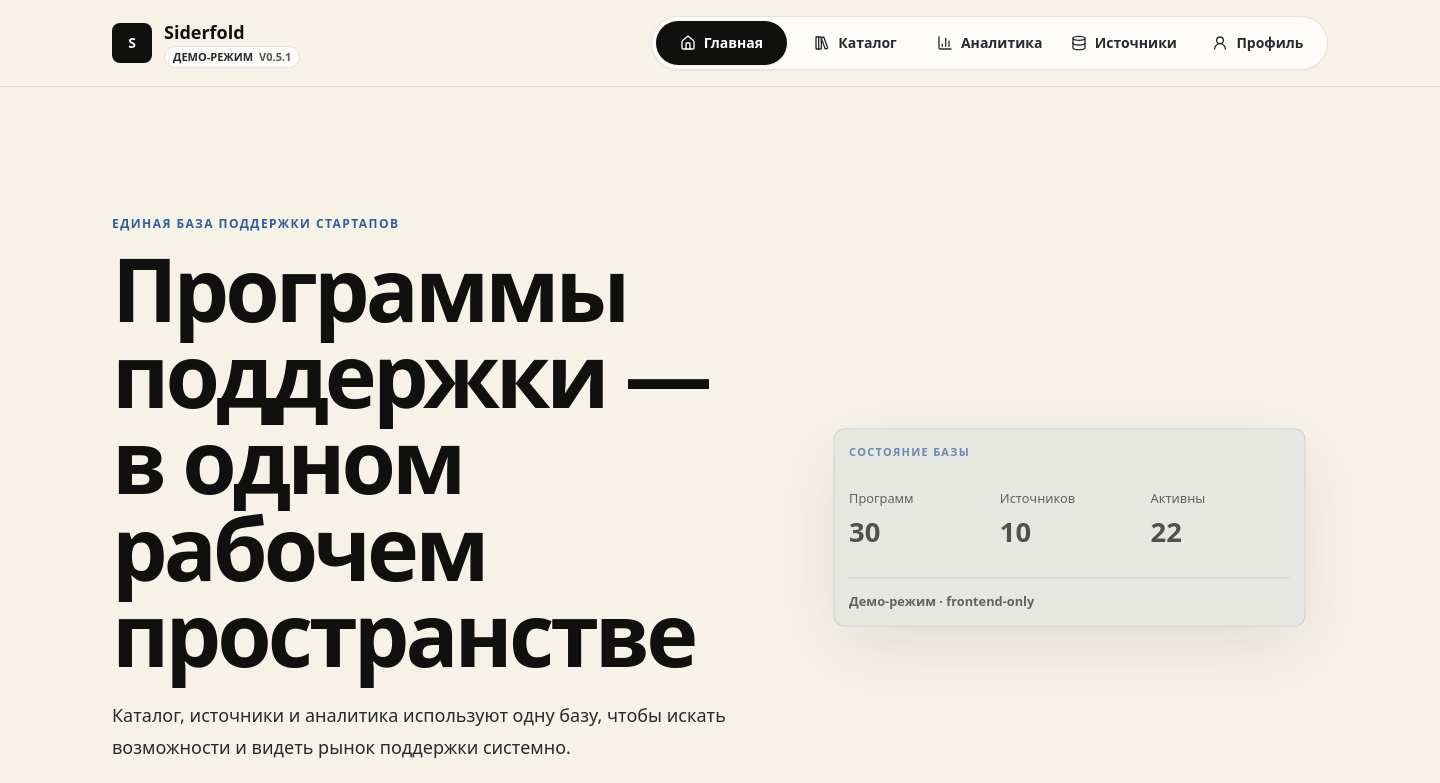
Scenario: App navigation › switches every new shell section without reload
The image size is (1440, 783).
Click the tab "Аналитика" at (990, 43), box [925,21,1055,65]
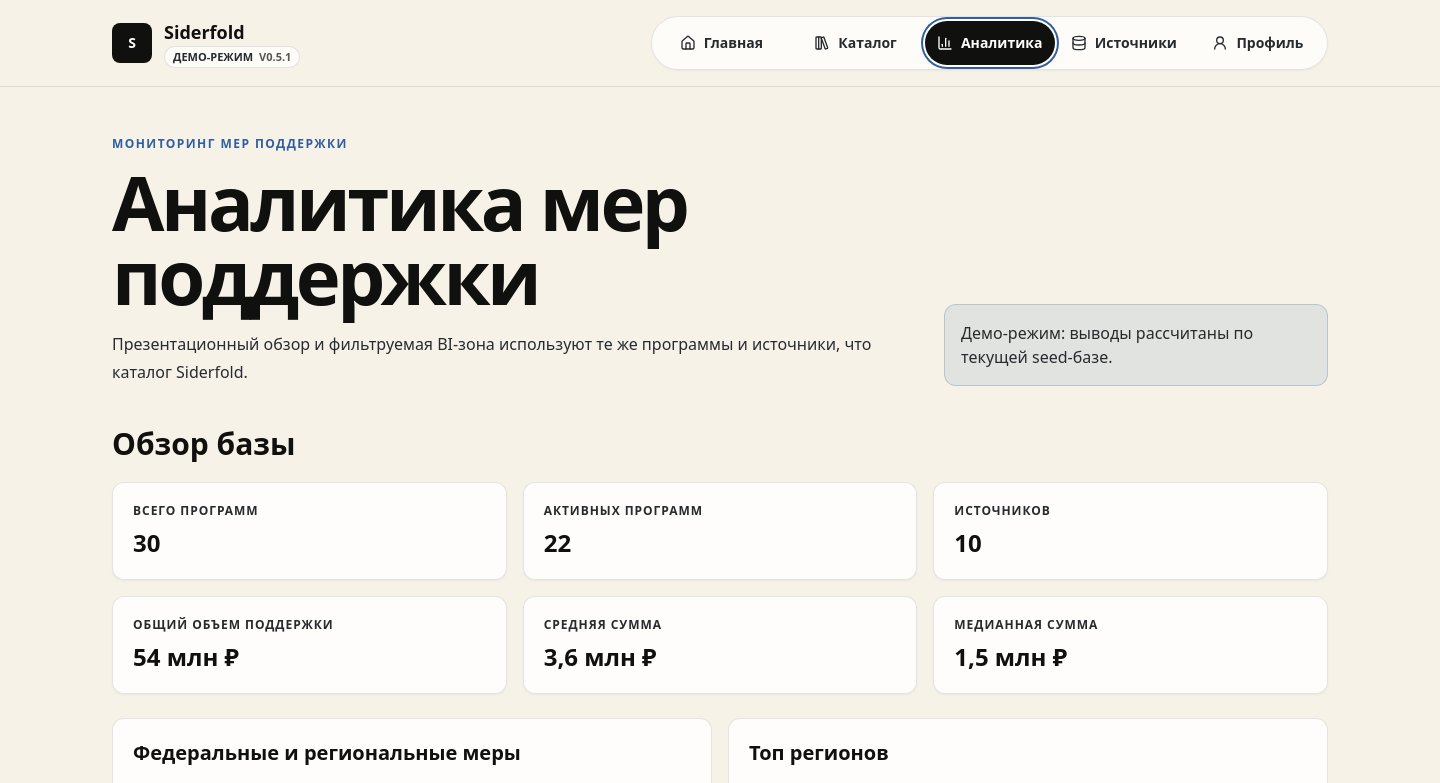
Expected: the heading "Аналитика мер поддержки" is shown, [112,150,687,328]
Click the tab "Профиль" at (1258, 43), box [1193,21,1323,65]
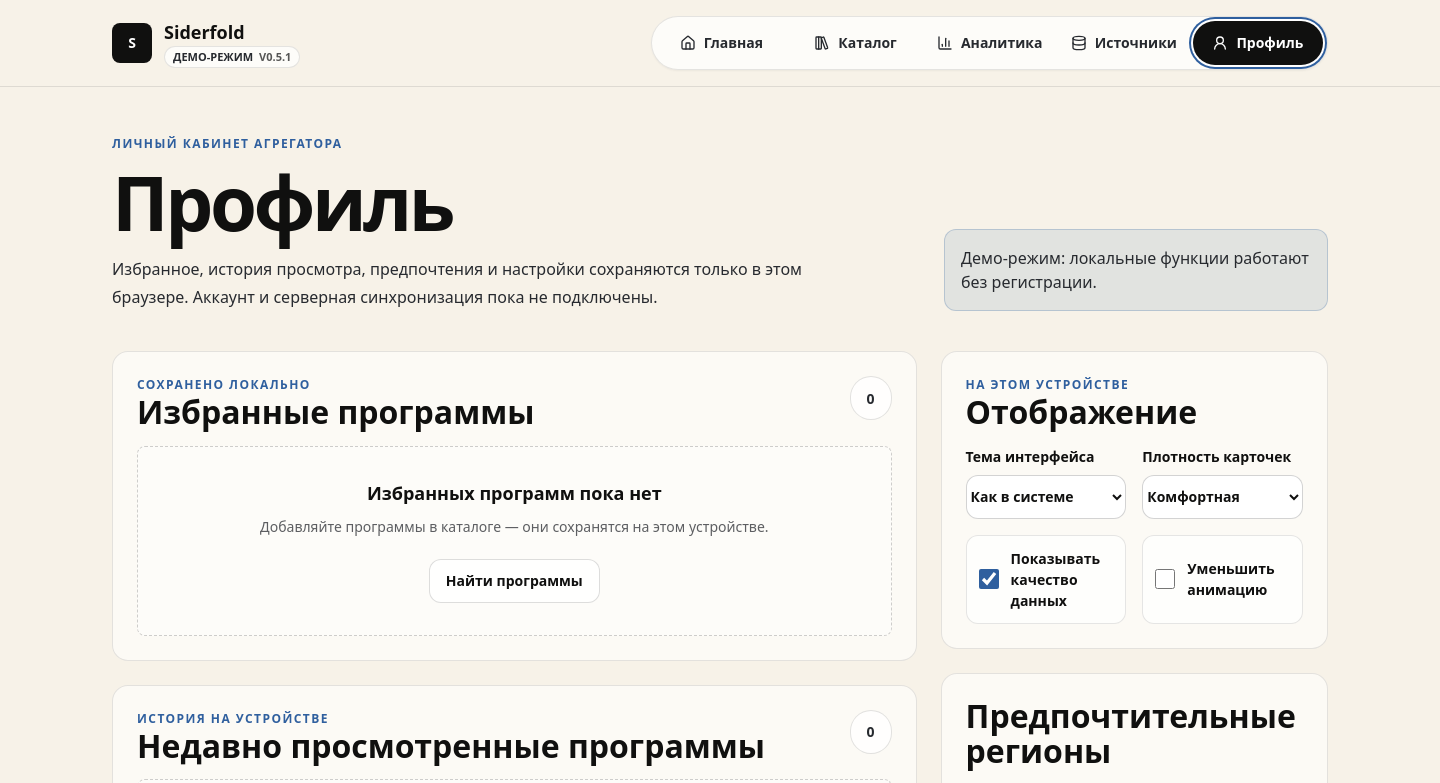
Expected: the heading "Профиль" is shown, [112,150,452,253]
